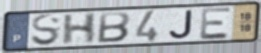4: (134, 9, 160, 43)
B: (96, 11, 133, 44)
E: (199, 6, 233, 41)
H: (60, 12, 99, 46)
J: (168, 9, 195, 40)
S: (30, 13, 62, 48)
